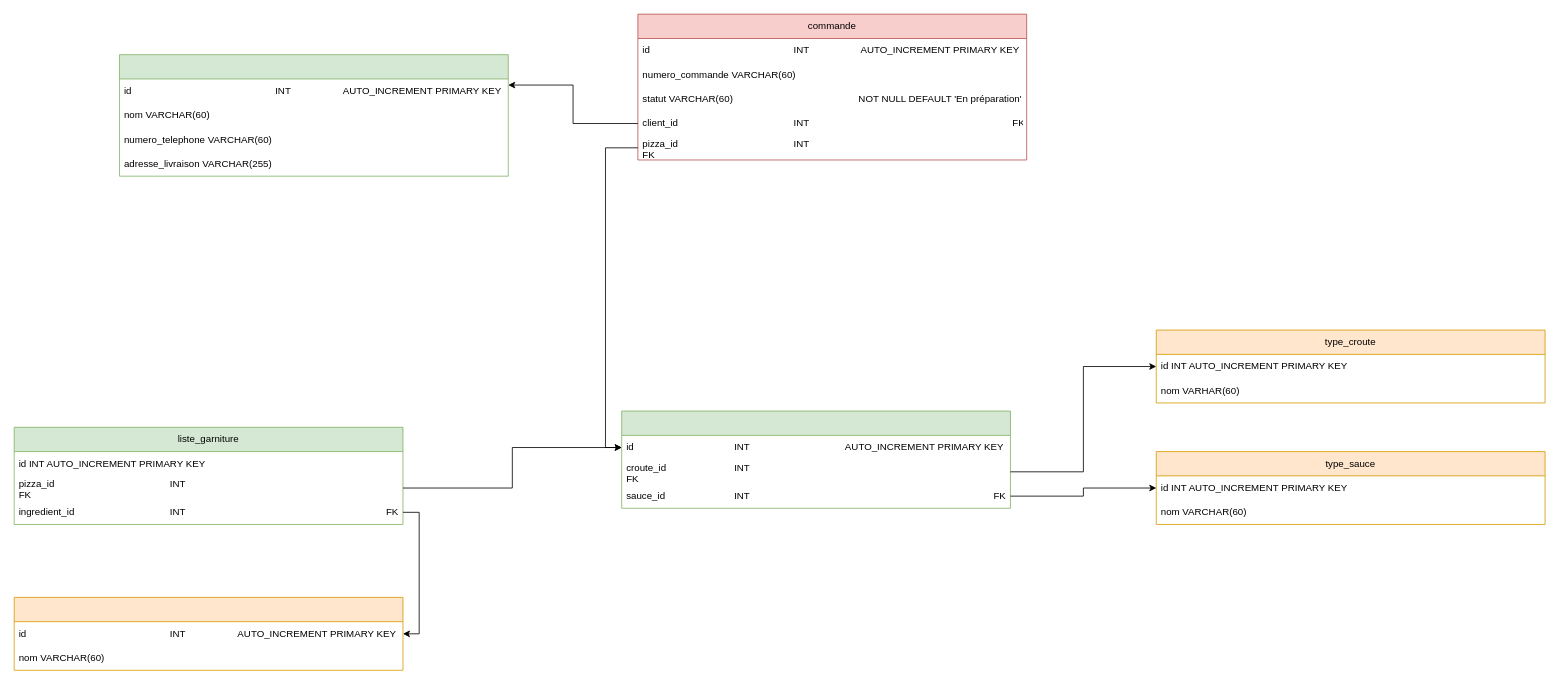
Image size: 1559x684. Some labels were removed from this diagram. The box of each missing label's shape, as (x1, y1, x2, y2) in pixels:
client: (119, 54, 508, 176)
lngredient: (13, 597, 403, 670)
